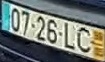0: (10, 7, 20, 32)
2: (35, 14, 46, 42)
6: (46, 18, 58, 45)
7: (20, 9, 30, 37)
C: (75, 26, 91, 53)
L: (63, 21, 75, 51)
